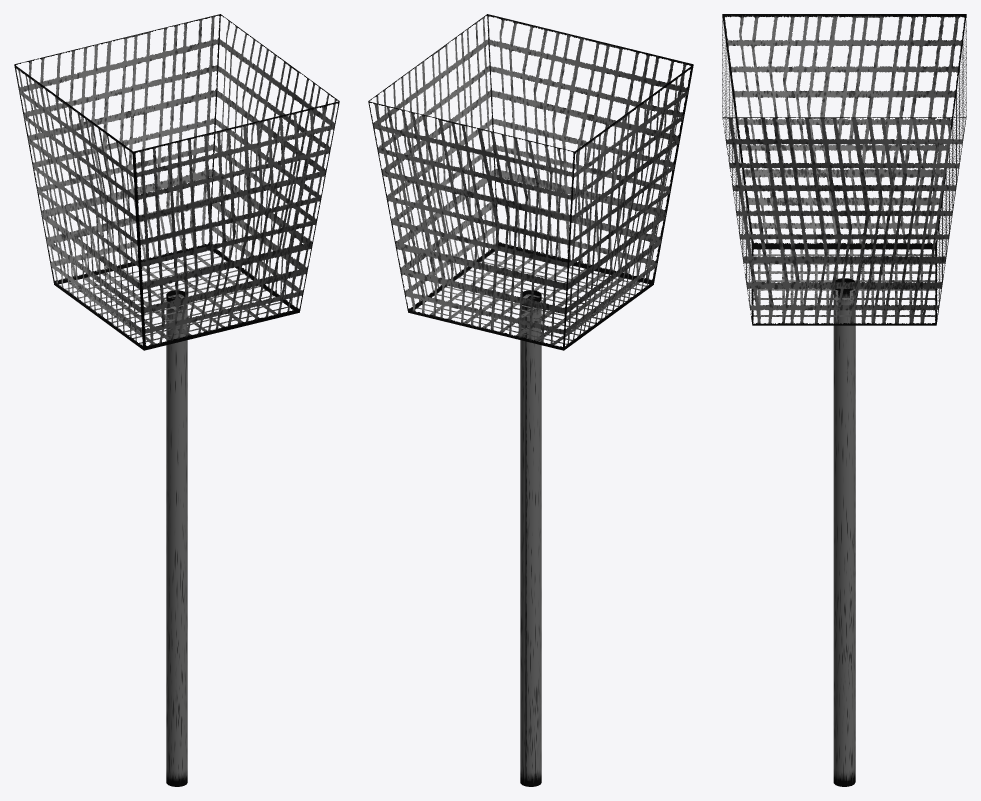
The model's file is trashBin.obj.
3 views of the same model, side by side, from view 1: azimuth 30°, elevation 25°; view 2: azimuth 150°, elevation 25°; view 3: azimuth 270°, elevation 25° (orthographic). The views are drawn at different scales.
Visible parts, largest first — view 1: trashBin; view 2: trashBin; view 3: trashBin.
Boxes of the visible parts, bbox=[...] form: trashBin: bbox=[14, 14, 339, 786]; trashBin: bbox=[368, 14, 693, 786]; trashBin: bbox=[722, 14, 966, 786].
Bounding box in the file's own units: 1.34 × 4.34 × 1.34.
